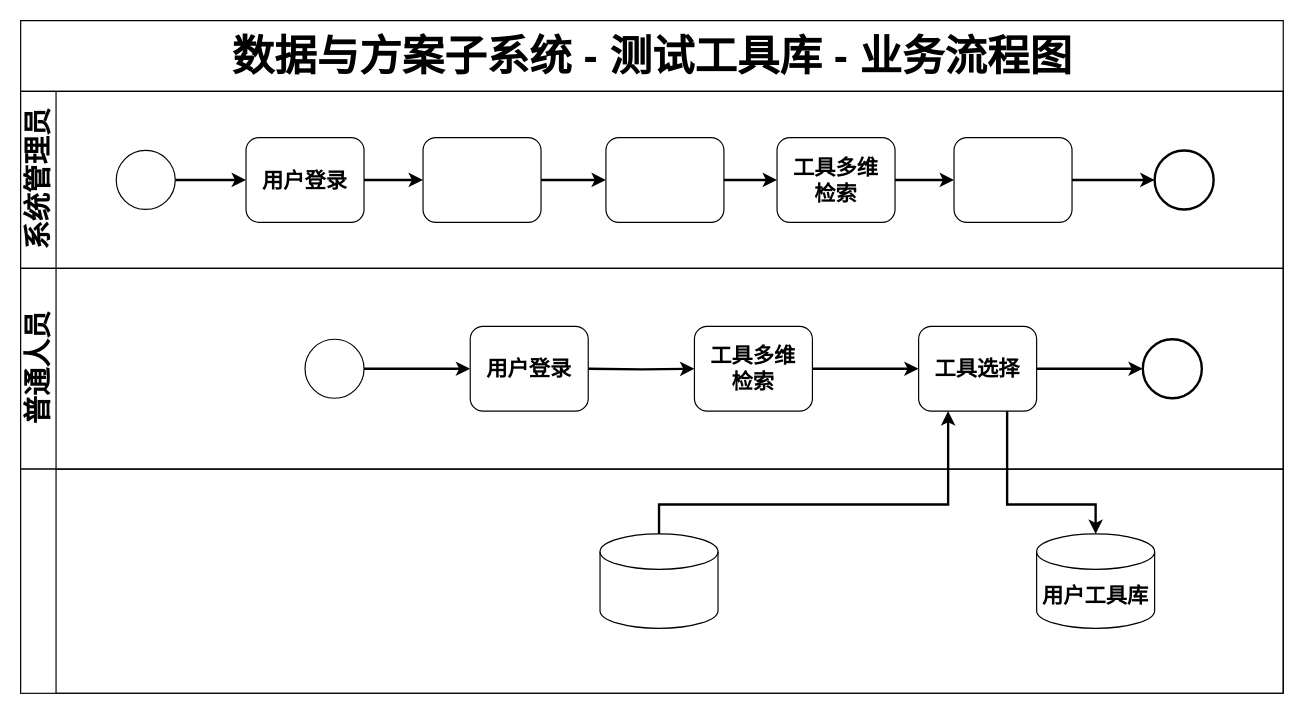
Some shapes in this 1304 by 714 pixel diagram are drawn without their labels. The shapes that lost their labels are listed below. From the top down, each one's box as (x1, y1, x2, y2) in pixels, then its label:
(422, 136, 541, 222): 工具创建
(605, 136, 724, 222): 工具元信息 编辑
(953, 136, 1072, 222): 工具删改 管理
(19, 468, 1283, 693): 测试工具模块
(599, 533, 718, 628): 测试工具库
